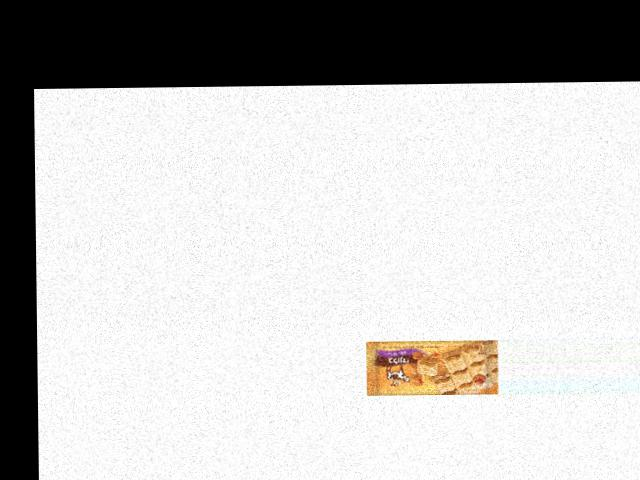chocolate: (361, 336, 498, 395)
